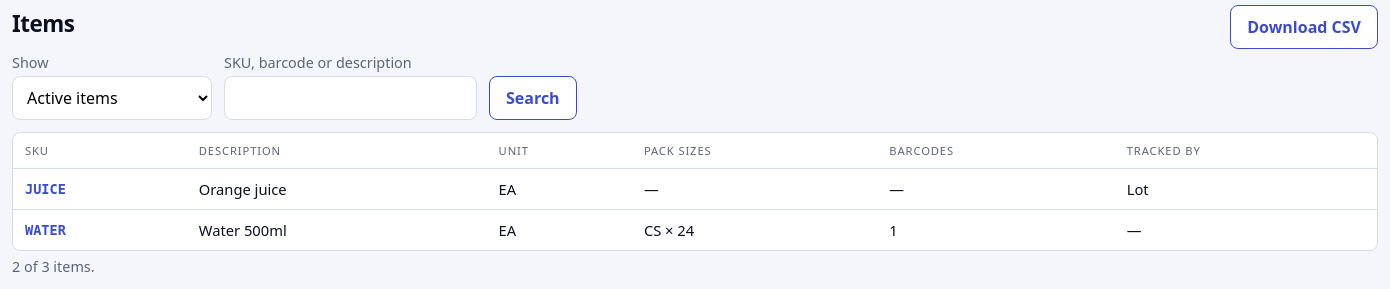
Test: lists active items, finds them by barcode, and offers edits only to admins
Check: the link "JUICE" is shown, box 25,181 -> 66,197
Check: the link "OLD" is not shown
Type "600123" into the field labelled "SKU, barcode or description" at (350,98), box 224,76 -> 477,120
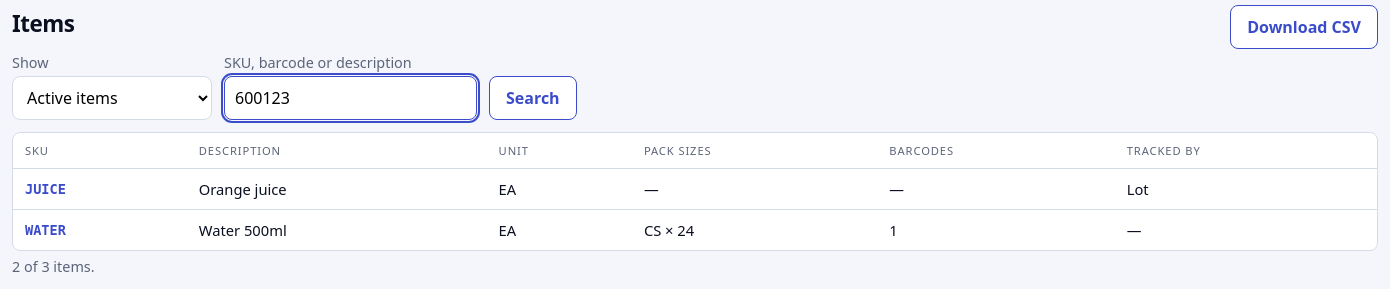
Click the button "Search" at (533,98), box 489,76 -> 577,120
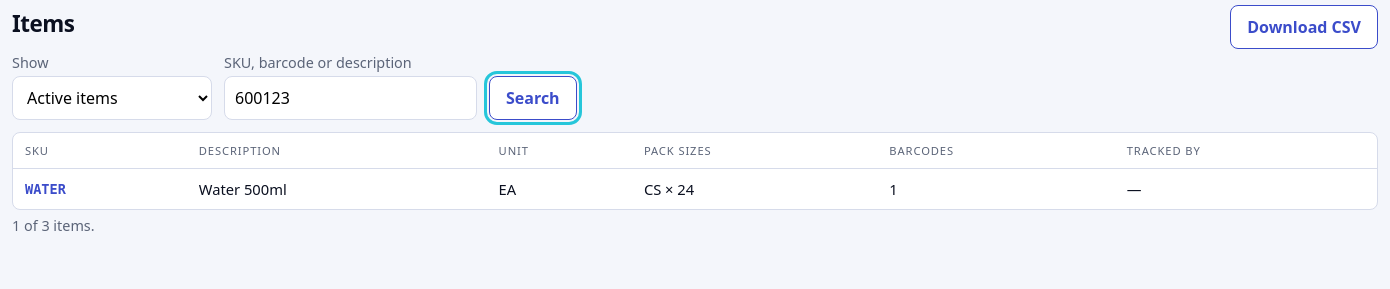
Check: the link "WATER" is shown, box 25,181 -> 66,197
Check: the text "1 of 3 items." is shown, box 12,216 -> 95,235
Select "Inactive items" in the dropdown labelled "Show" at (112,98), box 12,76 -> 212,120
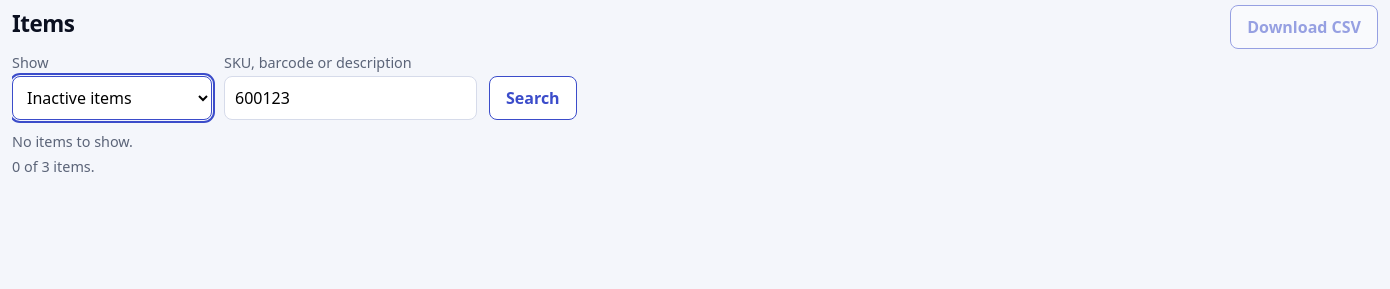
Clear the field labelled "SKU, barcode or description" at (350,98), box 224,76 -> 477,120
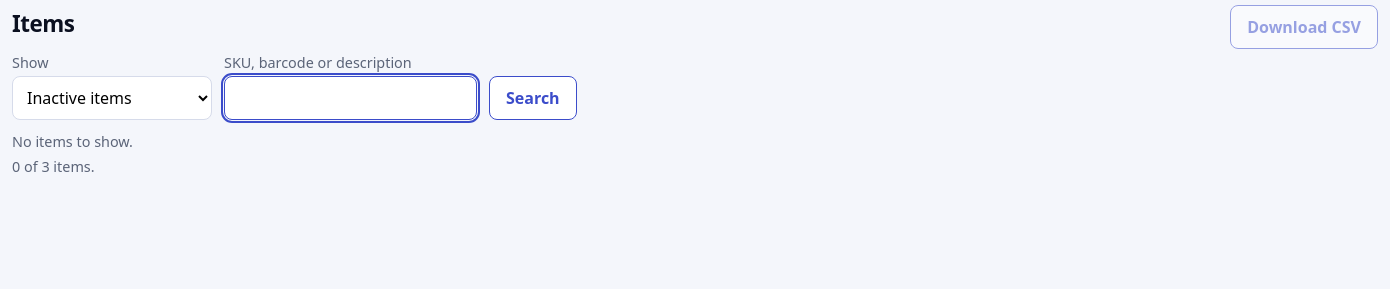
Click the button "Search" at (533,98), box 489,76 -> 577,120
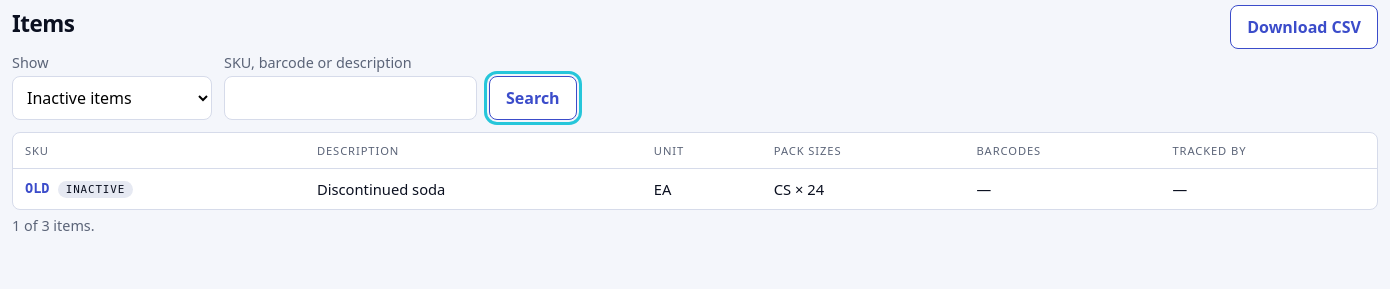
Check: the link "OLD" is shown, box 25,180 -> 50,196
